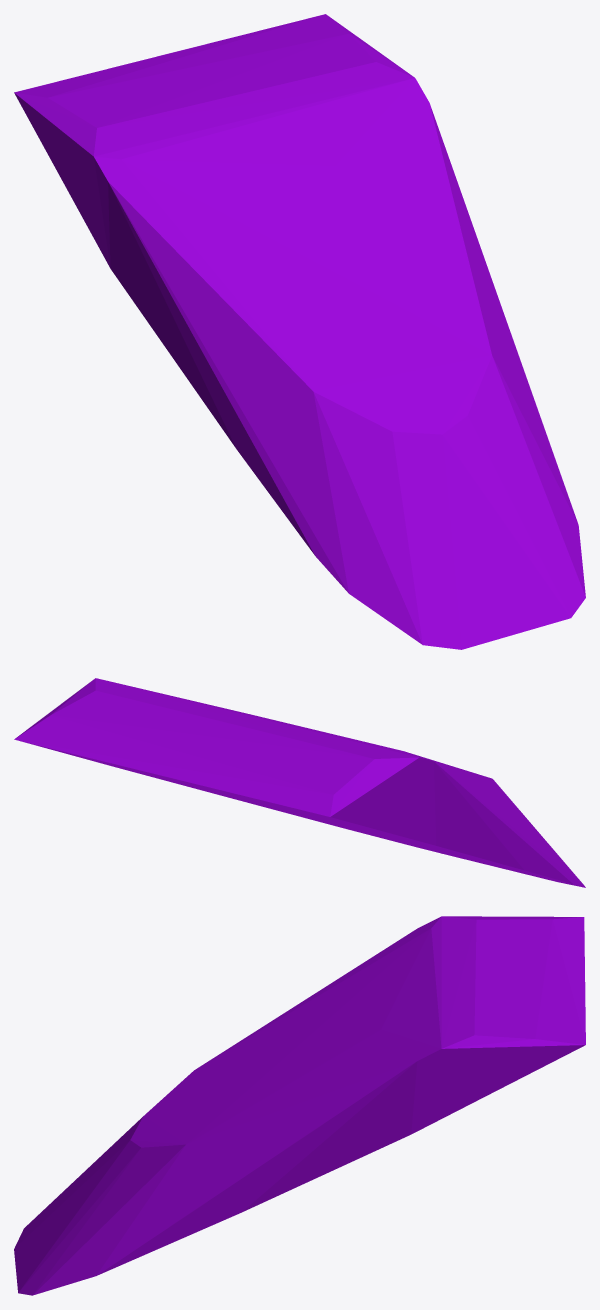
The model's file is toe-roll_convex_piece_001.obj.
The picture shows the model from 3 angles, top to bottom: view 1: azimuth 30°, elevation 25°; view 2: azimuth 150°, elevation 25°; view 3: azimuth 270°, elevation 25°; orthographic projection. The views are drawn at different scales.
Size of the model in its own units: 0.0844 by 0.0863 by 0.1534.
